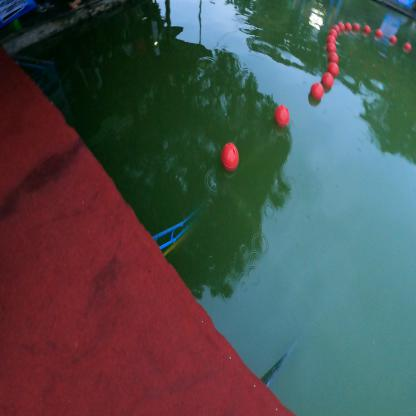red_buoy: (219, 137, 241, 174), (274, 103, 292, 129), (309, 76, 324, 107), (320, 69, 336, 96), (325, 37, 340, 54), (328, 58, 339, 79), (328, 47, 339, 66), (328, 24, 339, 42)
